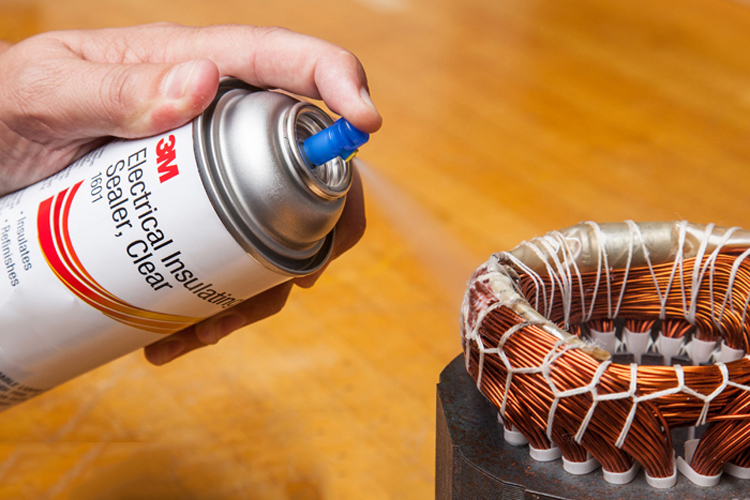3M: (150, 132, 190, 188)
